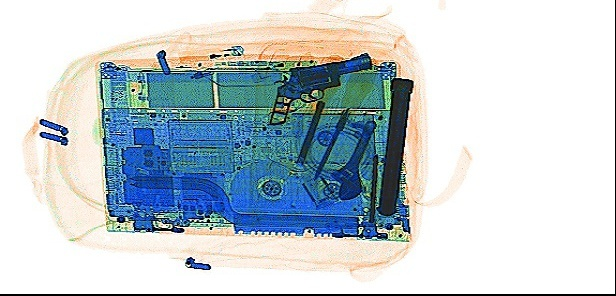lighter: (176, 42, 244, 65)
